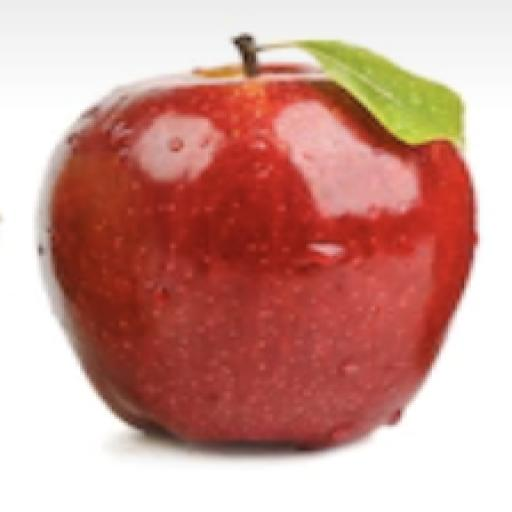apple: (42, 62, 475, 446)
